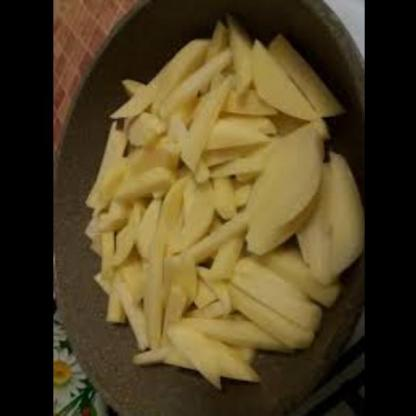potato: (83, 33, 341, 372)
